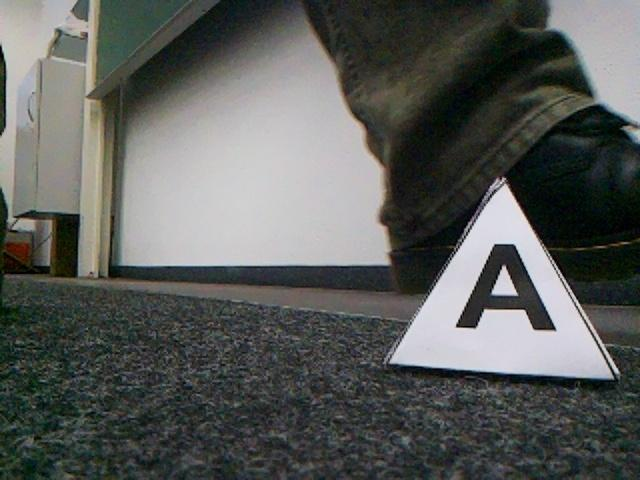A: (389, 175, 620, 388)
